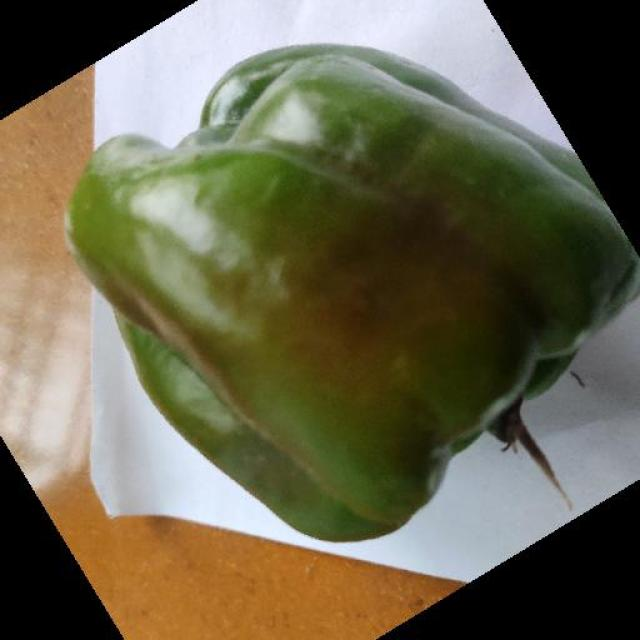Stale_Capsicum: (111, 78, 553, 490)
